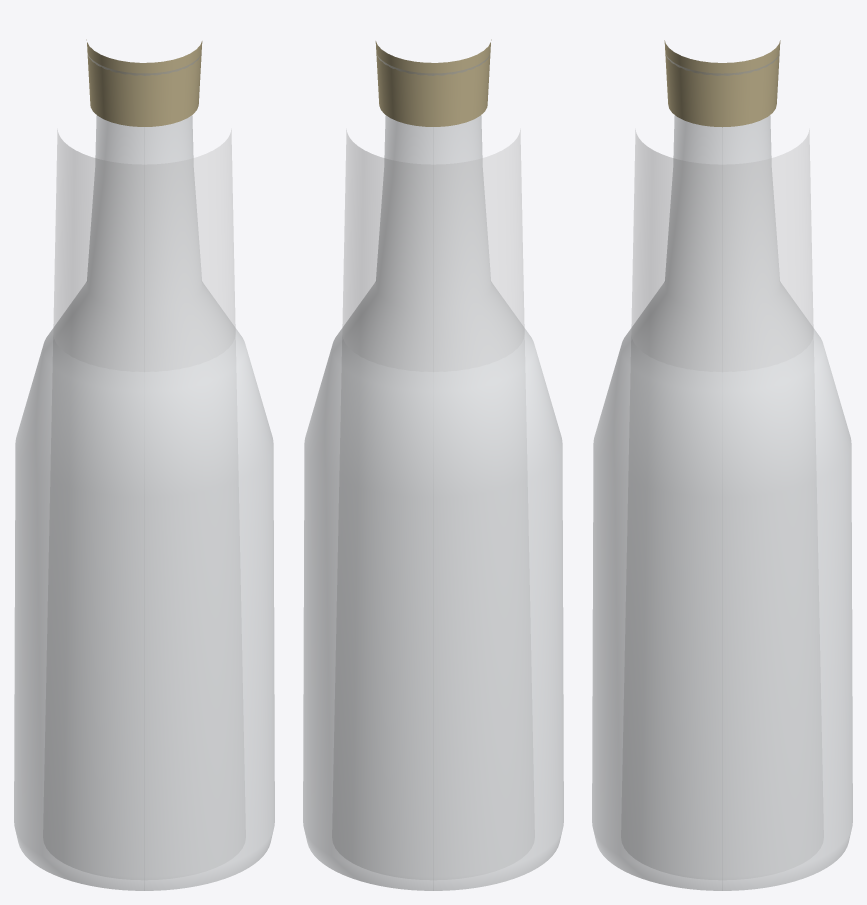
The model's file is grey-goose-vx.glb.
3 renders of one model, left to right at view 1: azimuth 30°, elevation 25°; view 2: azimuth 150°, elevation 25°; view 3: azimuth 270°, elevation 25°, orthographic.
Parts seen in each view (by area): view 1: body, liquid, cap; view 2: body, liquid, cap; view 3: body, liquid, cap.
Part boxes in pixels (x1,y1,x2,y2): body: (14, 55, 274, 890); liquid: (43, 130, 245, 879); cap: (86, 39, 202, 126); body: (303, 55, 563, 890); liquid: (332, 130, 534, 879); cap: (375, 39, 491, 126); body: (592, 55, 852, 890); liquid: (621, 130, 823, 879); cap: (664, 40, 780, 127).
Bounding box in the file's own units: 0.36 × 1.22 × 0.36.
